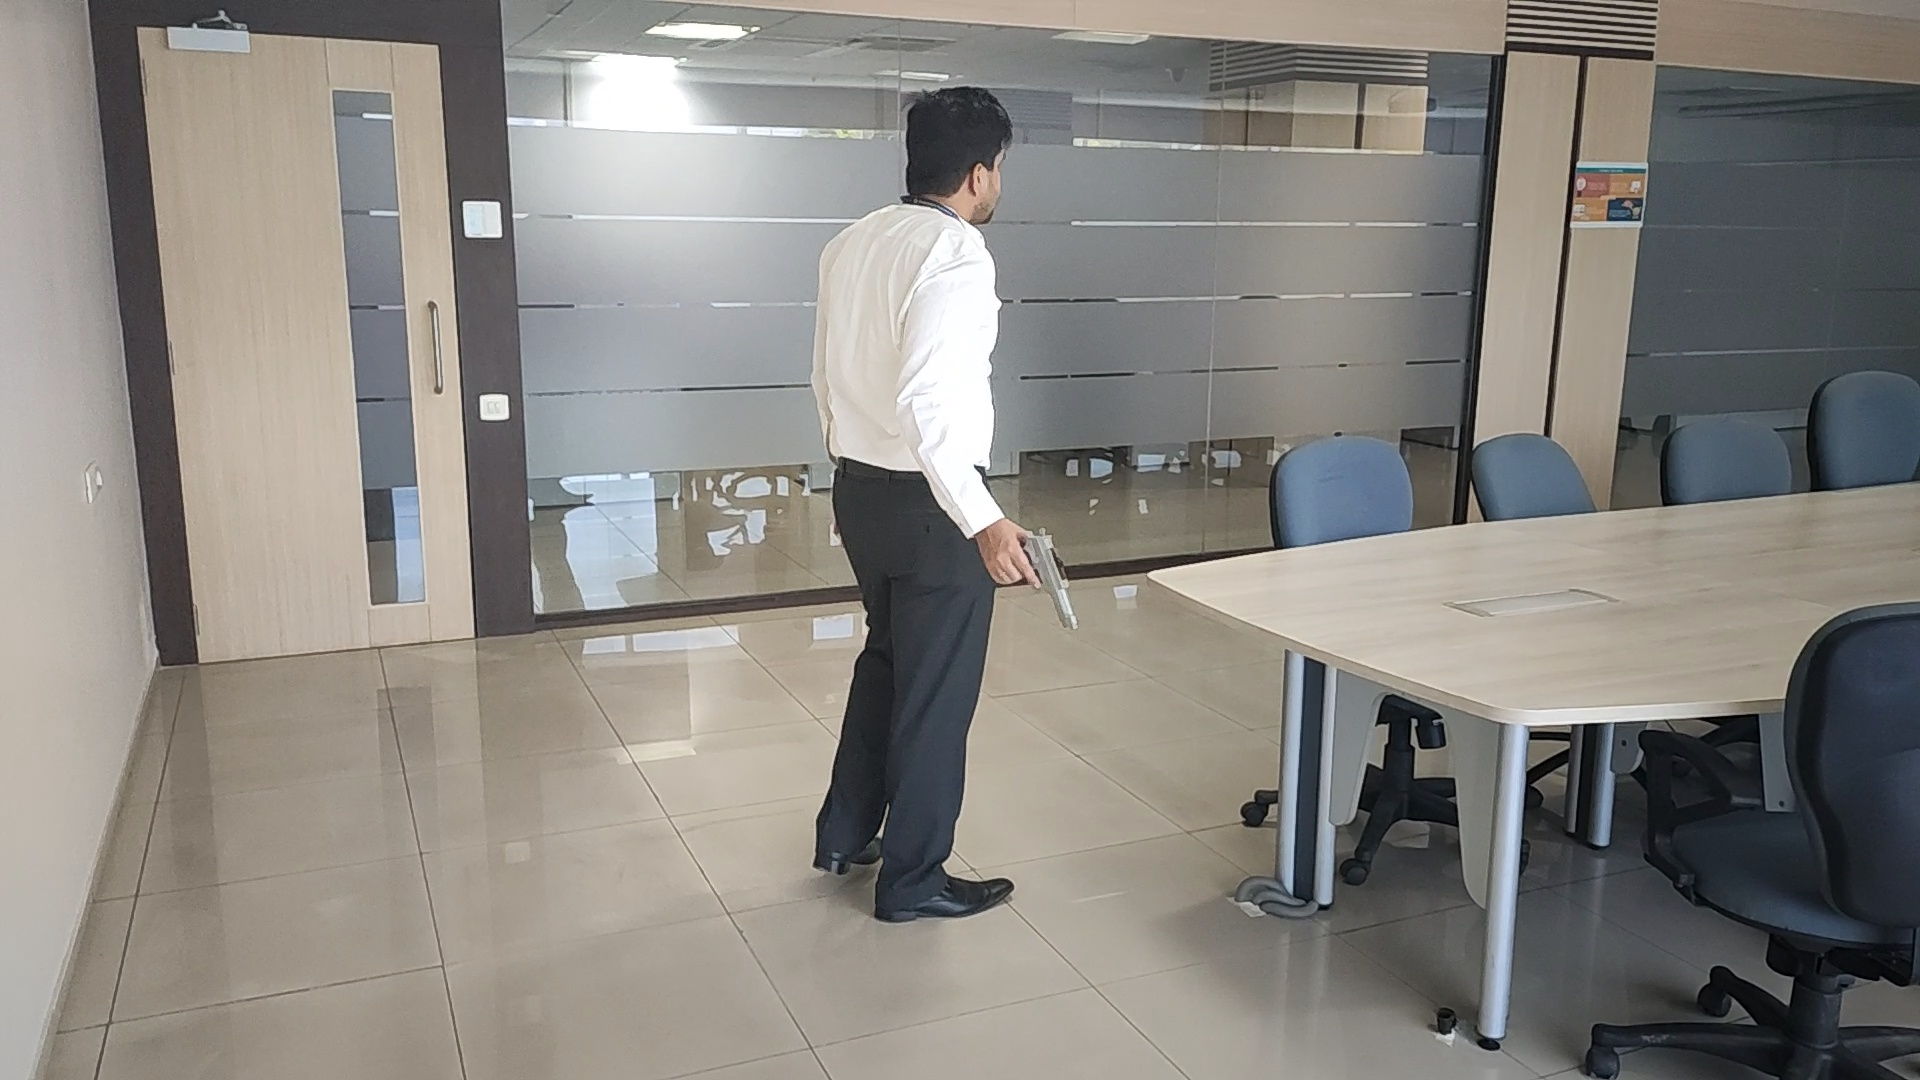gun: (1025, 525, 1077, 632)
